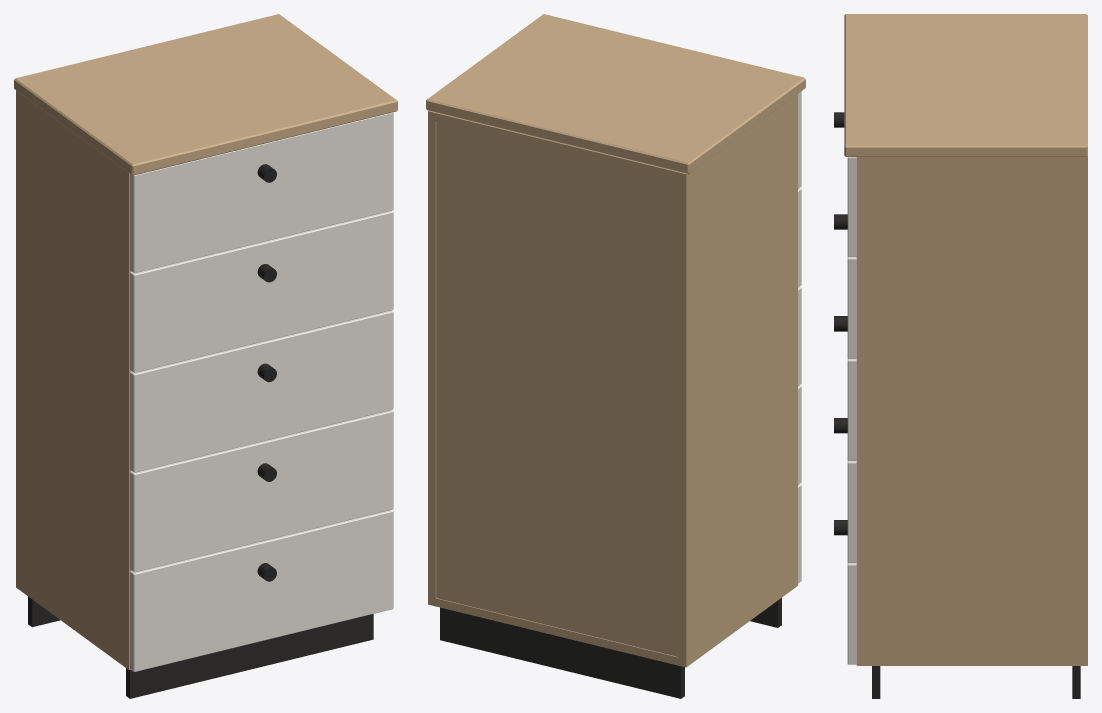
The model's file is 06_komoda_60_5sz_wysoka.glb.
The picture shows the model from 3 angles, left to right: view 1: azimuth 30°, elevation 25°; view 2: azimuth 150°, elevation 25°; view 3: azimuth 270°, elevation 25°; orthographic projection. The views are drawn at different scales.
Parts seen in each view (by area): view 1: Korpus, Wierzch, Front_szuflada_2, Front_szuflada_4, Front_szuflada_5, Front_szuflada_3, Front_szuflada_1, Cokol, Uchwyty; view 2: Korpus, Wierzch, Cokol; view 3: Korpus, Wierzch, Uchwyty, Front_szuflada_3, Front_szuflada_5, Front_szuflada_2, Front_szuflada_4, Front_szuflada_1, Cokol.
Part boxes in pixels (x1,y1,x2,y2): Korpus: [16, 90, 131, 669]; Wierzch: [14, 14, 397, 175]; Front_szuflada_2: [130, 210, 393, 372]; Front_szuflada_4: [130, 410, 393, 572]; Front_szuflada_5: [130, 510, 393, 671]; Front_szuflada_3: [130, 310, 393, 472]; Front_szuflada_1: [130, 112, 393, 273]; Cokol: [28, 596, 373, 698]; Uchwyty: [257, 164, 276, 581]; Korpus: [428, 94, 797, 667]; Wierzch: [426, 14, 805, 173]; Cokol: [440, 598, 781, 698]; Korpus: [856, 156, 1087, 665]; Wierzch: [844, 14, 1087, 156]; Uchwyty: [834, 112, 847, 535]; Front_szuflada_3: [847, 358, 856, 460]; Front_szuflada_5: [847, 562, 856, 664]; Front_szuflada_2: [847, 257, 856, 358]; Front_szuflada_4: [847, 460, 856, 562]; Front_szuflada_1: [847, 157, 856, 256]; Cokol: [872, 666, 1080, 698].
Bounding box in the file's own units: 0.612 × 1.2 × 0.494.
